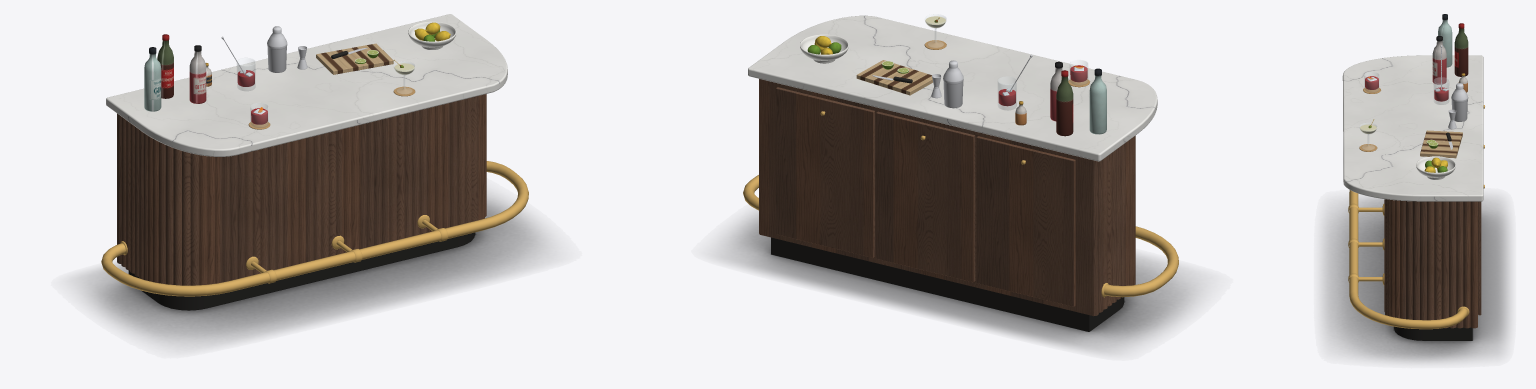
The model's file is bar_counter.glb.
3 renders of one model, left to right at view 1: azimuth 30°, elevation 25°; view 2: azimuth 150°, elevation 25°; view 3: azimuth 270°, elevation 25°, orthographic. The views are drawn at different scales.
Parts seen in each view (by area): view 1: bar_counter_LOD0, bar_counter_Shadow; view 2: bar_counter_LOD0, bar_counter_Shadow; view 3: bar_counter_LOD0, bar_counter_Shadow.
Boxes of the visible parts, x1,y1,x2,y2 form: bar_counter_LOD0: (101, 14, 528, 310); bar_counter_Shadow: (81, 195, 546, 343); bar_counter_LOD0: (743, 14, 1178, 331); bar_counter_Shadow: (721, 213, 1197, 350); bar_counter_LOD0: (1342, 14, 1484, 340); bar_counter_Shadow: (1323, 197, 1508, 361).
Size of what is drawn, in the model's own units: 2.53 by 1.22 by 1.18.
5 materials, 4 textured.
